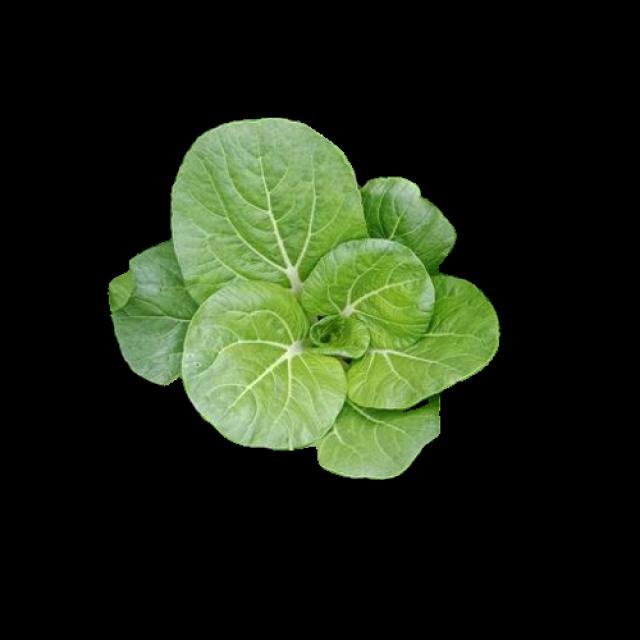mature: (104, 118, 499, 478)
unhealthy: (315, 382, 459, 478)
